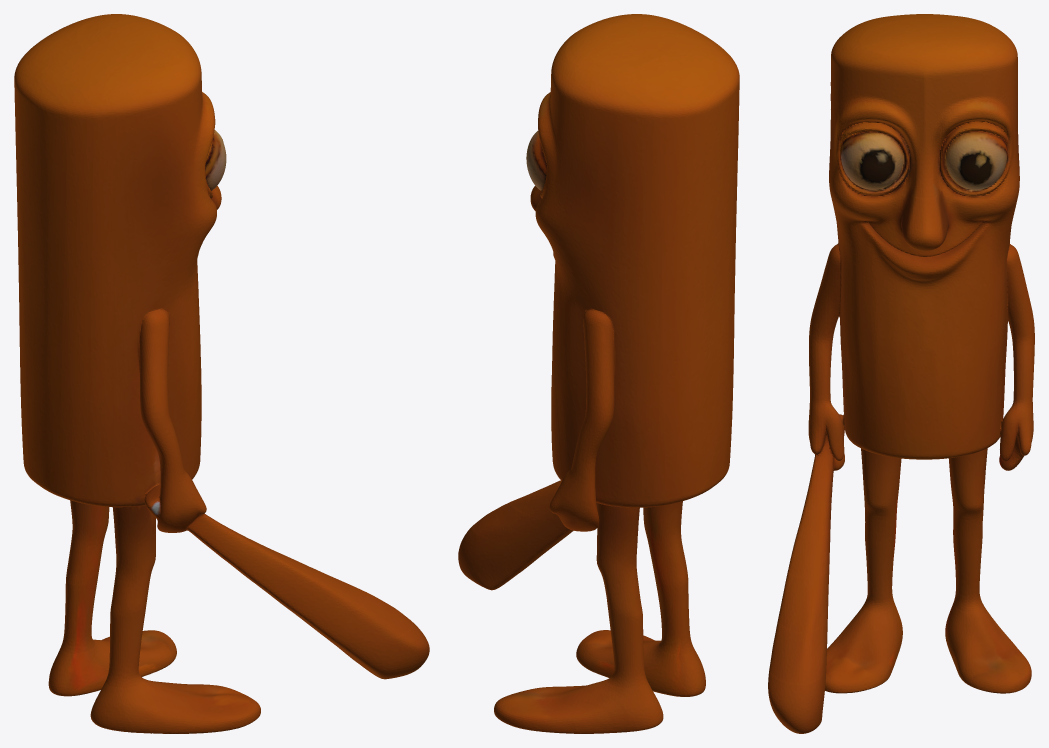
The picture shows the model from 3 angles, left to right: view 1: azimuth 30°, elevation 25°; view 2: azimuth 150°, elevation 25°; view 3: azimuth 270°, elevation 25°; orthographic projection. The views are drawn at different scales.
Parts seen in each view (by area): view 1: jake; view 2: jake; view 3: jake.
Boxes of the visible parts, x1,y1,x2,y2 form: jake: [14, 14, 429, 733]; jake: [458, 14, 739, 733]; jake: [768, 14, 1034, 733].
Size of the model in its own units: 41.69 by 80 by 30.9.
